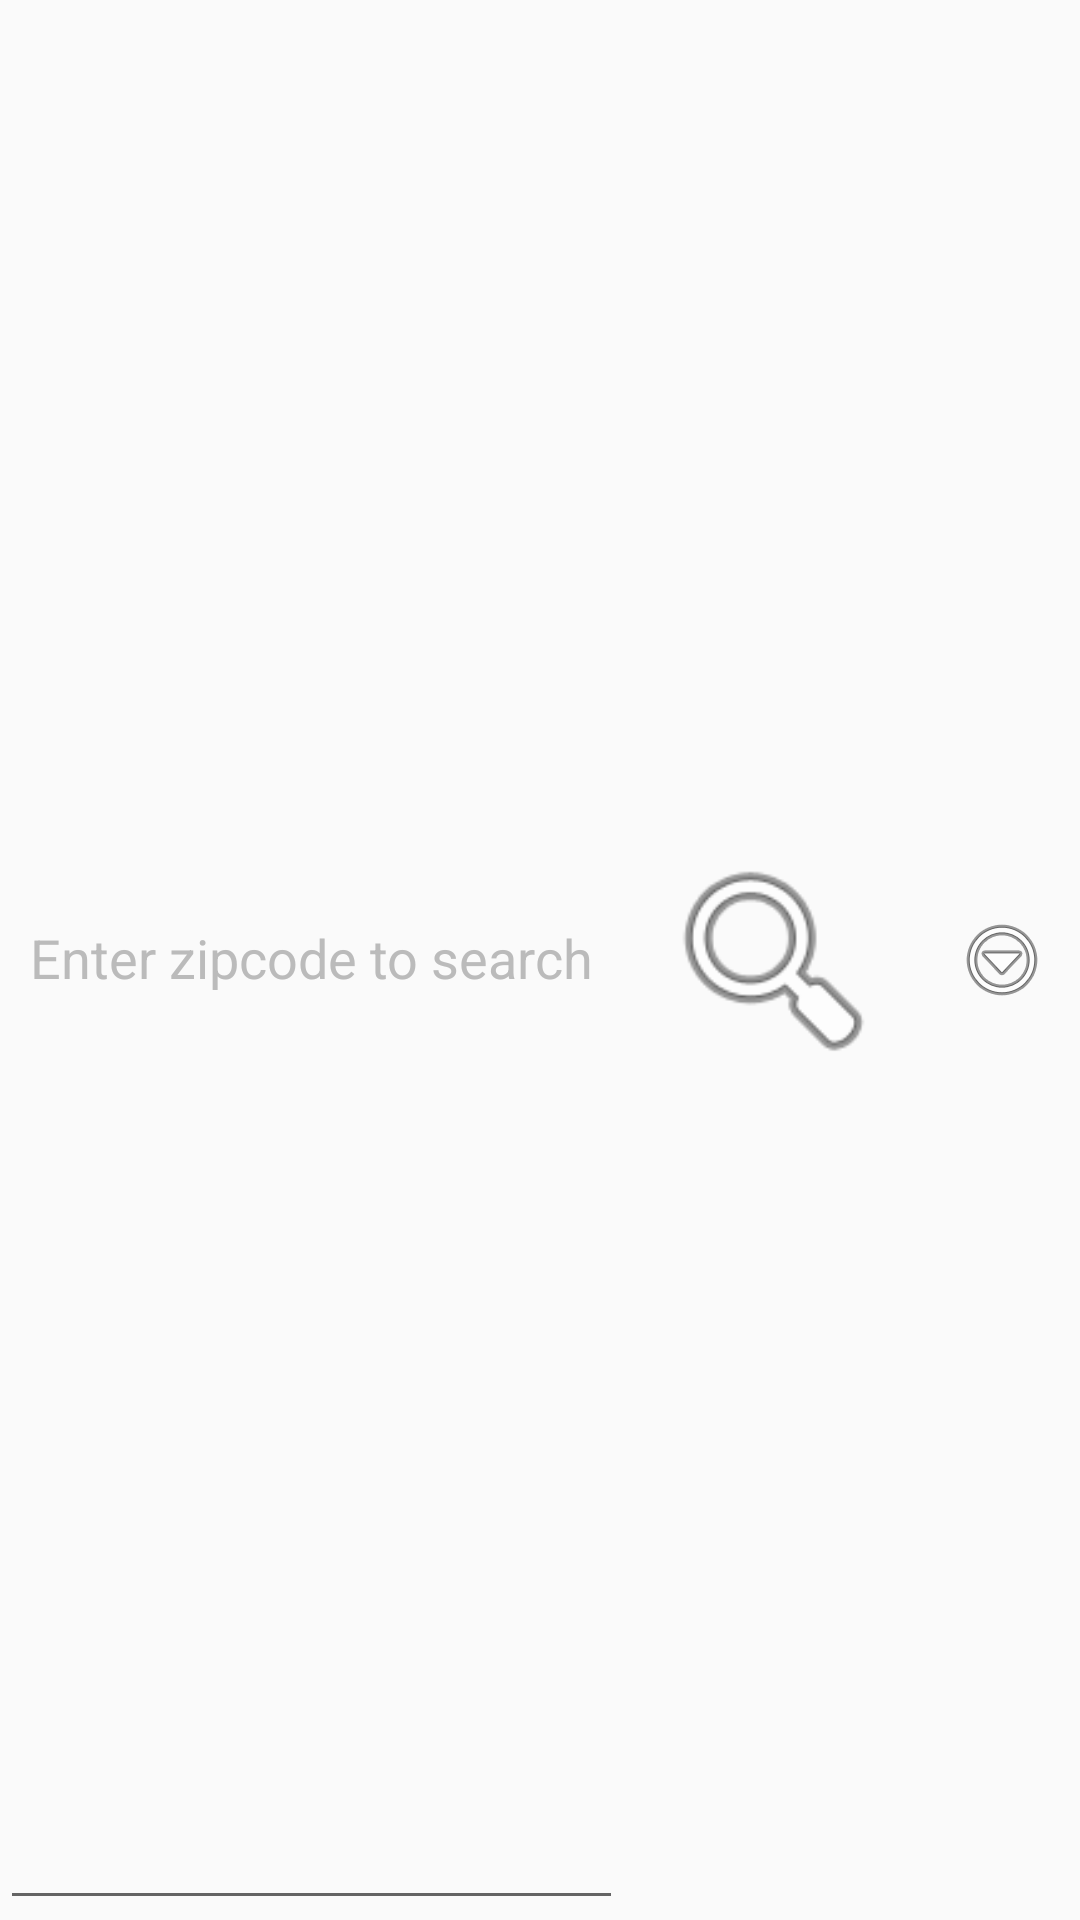

Icons on this 1080px x 1920px Android screen, each with its box as box(x1, y1, x2, y2):
more: box(966, 924, 1038, 996)
